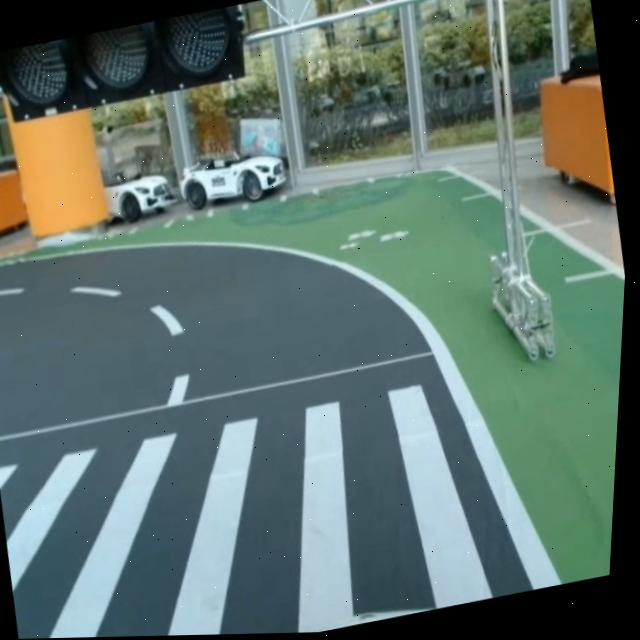traffic-light: (0, 2, 259, 131)
